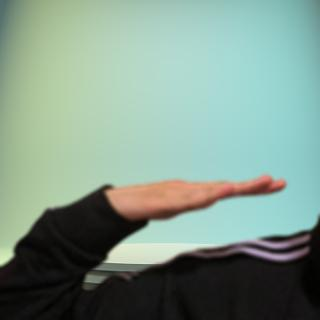Wait: (106, 167, 290, 227)
